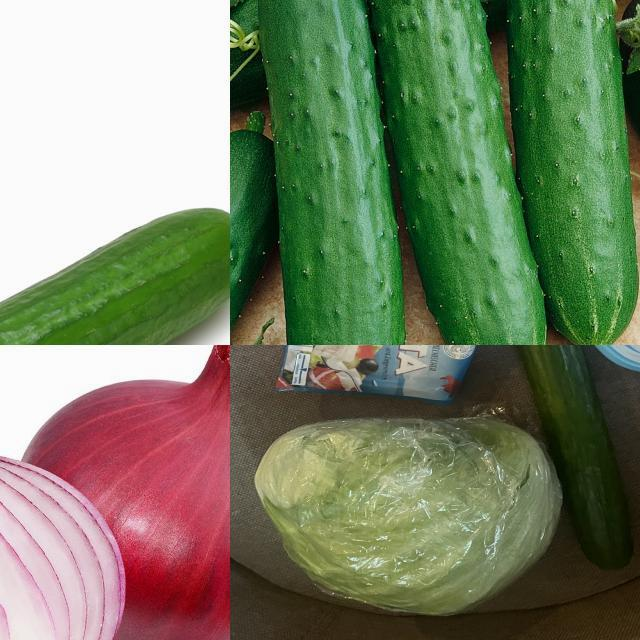cabbage: (256, 416, 568, 627)
cucumber: (353, 1, 550, 346), (255, 1, 406, 346), (497, 1, 640, 346), (497, 346, 640, 588), (1, 200, 231, 346), (231, 130, 291, 346)
onion: (19, 347, 231, 640), (1, 406, 123, 640)
